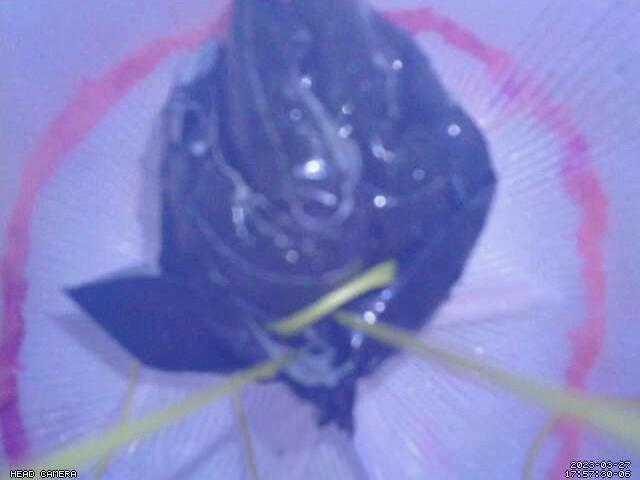head: (0, 0, 609, 480)
